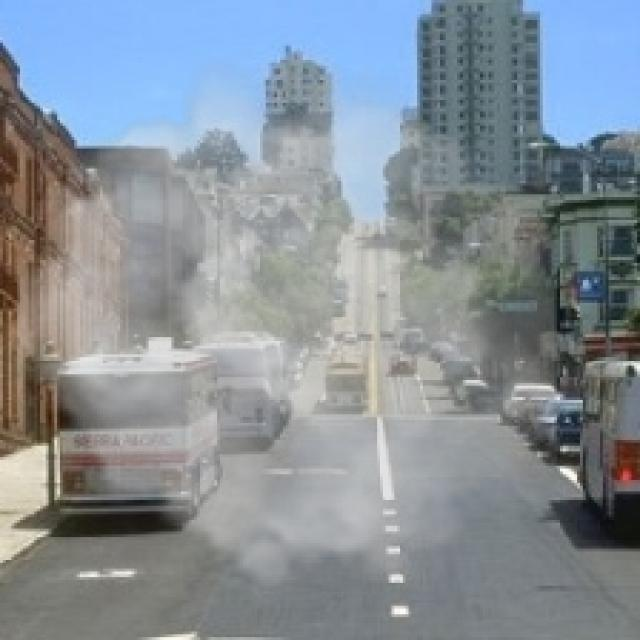smoke: (17, 57, 557, 609)
